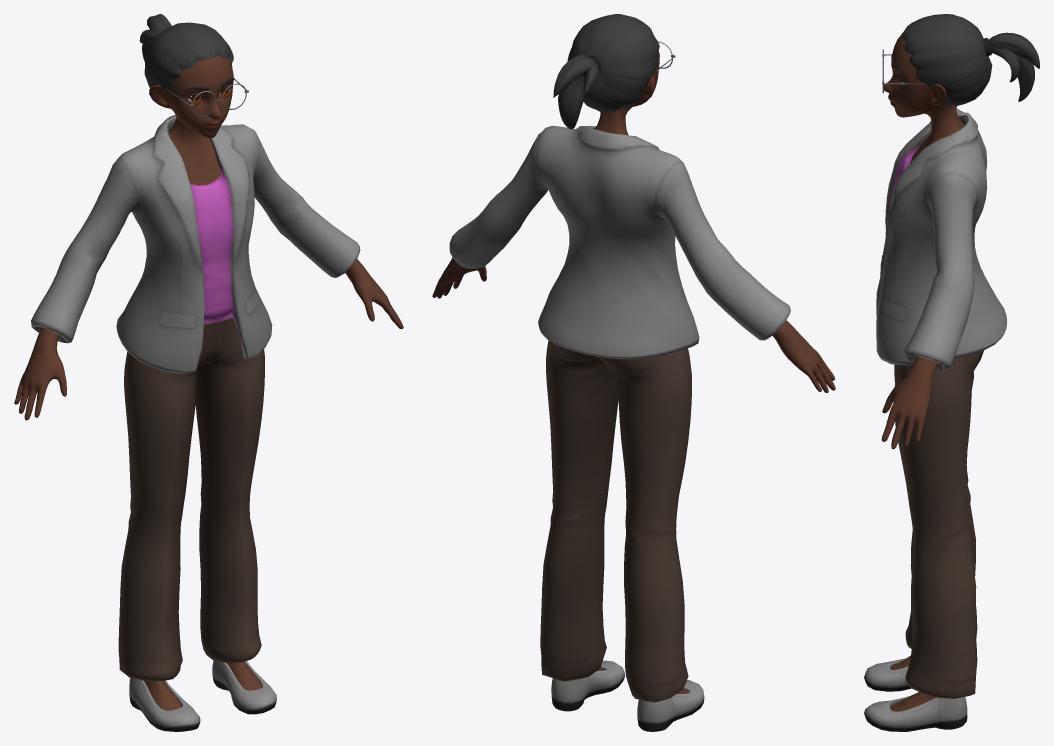
The model's file is Secretary_Mesh.obj.
The picture shows the model from 3 angles, left to right: view 1: azimuth 30°, elevation 25°; view 2: azimuth 150°, elevation 25°; view 3: azimuth 270°, elevation 25°; orthographic projection. The views are drawn at different scales.
Parts seen in each view (by area): view 1: Secretary_Mesh_0; view 2: Secretary_Mesh_0; view 3: Secretary_Mesh_0.
Part boxes in pixels (box(x1,y1,x2,y2)): Secretary_Mesh_0: box(14, 14, 403, 731); Secretary_Mesh_0: box(432, 14, 835, 731); Secretary_Mesh_0: box(864, 14, 1039, 731).
Bounding box in the file's own units: 1.06 × 1.79 × 0.4158.
Materials: 1 (1 with a texture image).
